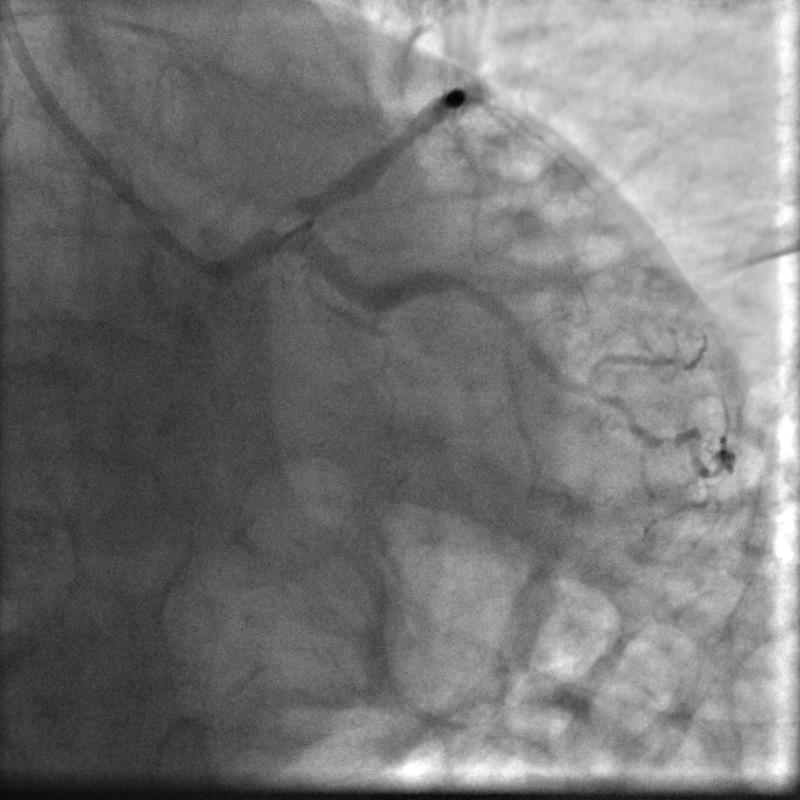Stenosis: (256, 197, 315, 245)
